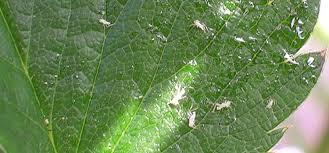insect: (166, 80, 186, 108), (187, 17, 211, 35), (209, 97, 233, 115), (185, 107, 198, 129), (96, 16, 113, 30), (262, 98, 276, 113)
